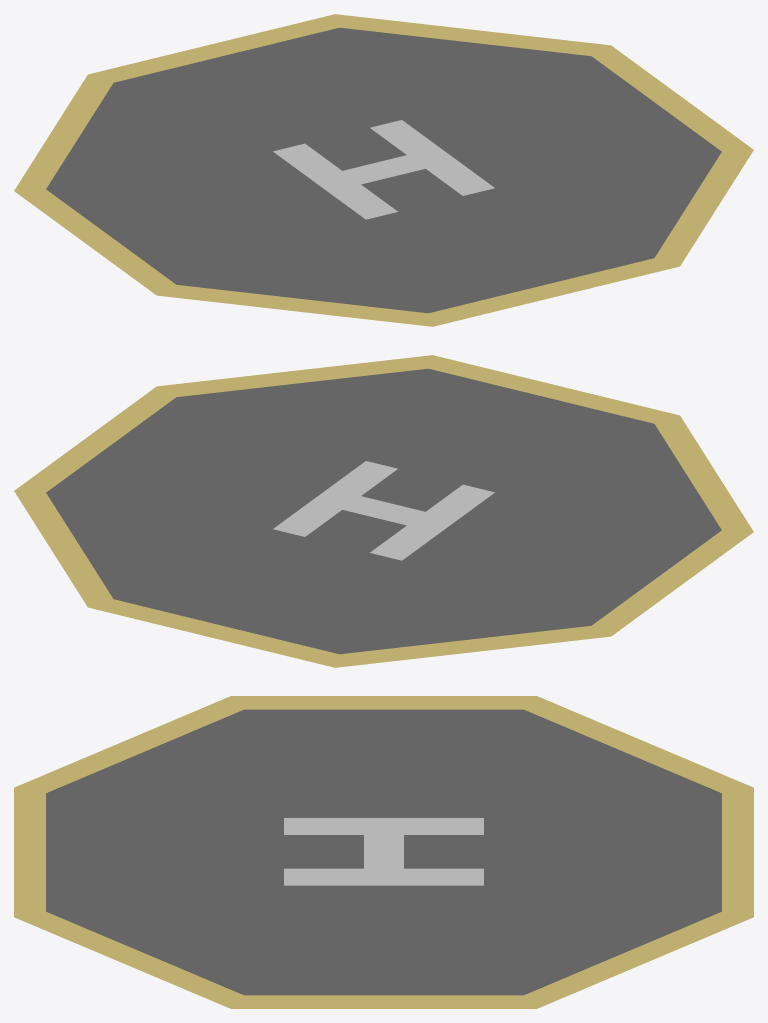
The model's file is Helipad.fbx.
3 renders of one model, top to bottom at view 1: azimuth 30°, elevation 25°; view 2: azimuth 150°, elevation 25°; view 3: azimuth 270°, elevation 25°, orthographic. The views are drawn at different scales.
Visible parts, largest first — view 1: Helipad; view 2: Helipad; view 3: Helipad.
Part boxes in pixels (box(x1,y1,x2,y2)): Helipad: box(14, 14, 753, 326); Helipad: box(14, 355, 753, 667); Helipad: box(14, 696, 753, 1008).
Size of the model in its own units: 9.24 by 0.01 by 9.24.
